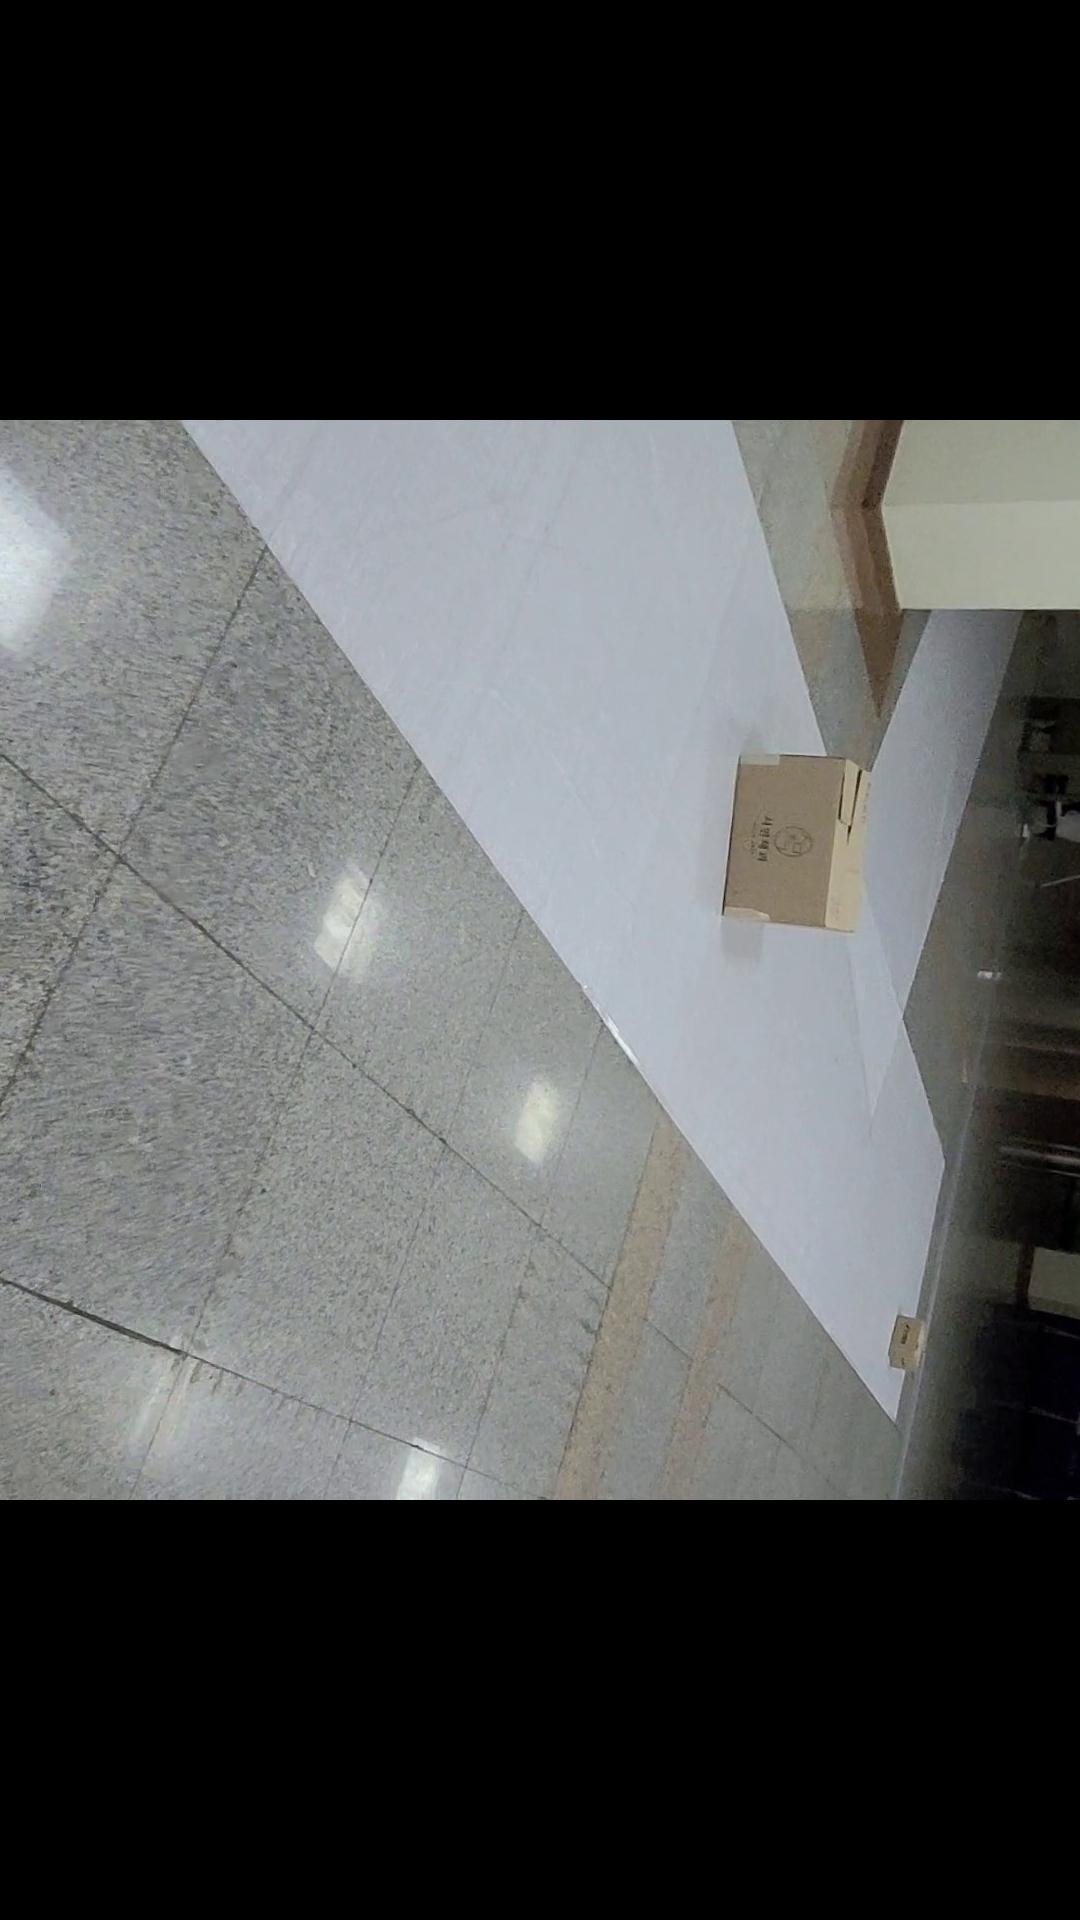Box: (707, 716, 872, 965), (851, 1286, 949, 1410)
